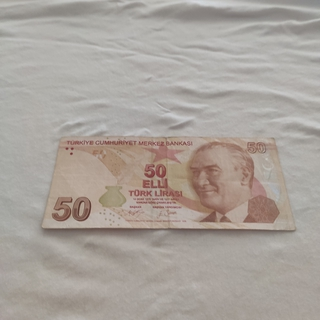50TLFront: (41, 134, 296, 230)
